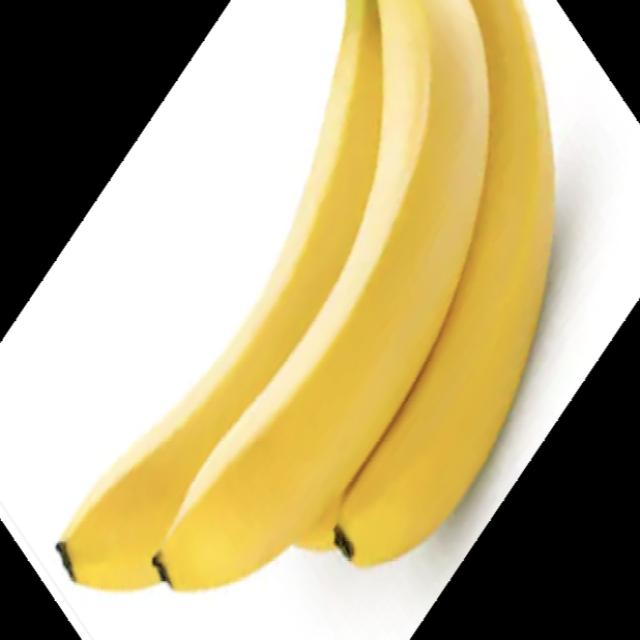god quality banana: (58, 2, 555, 591)
